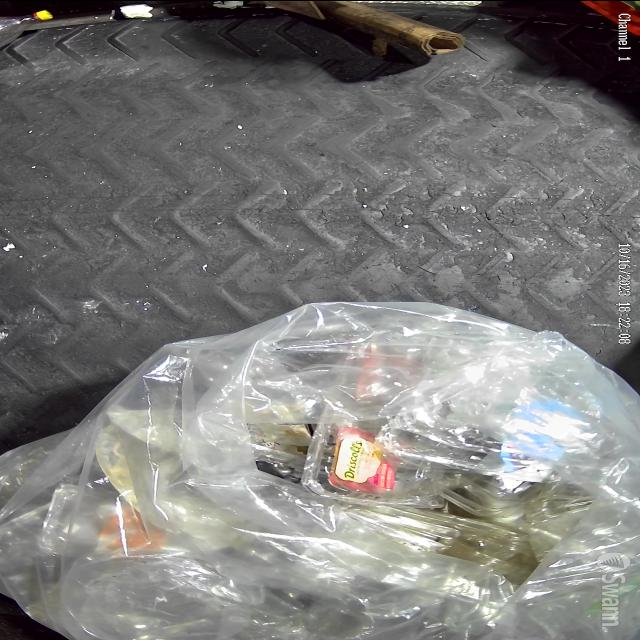plastic_bottle: (0, 9, 56, 45)
